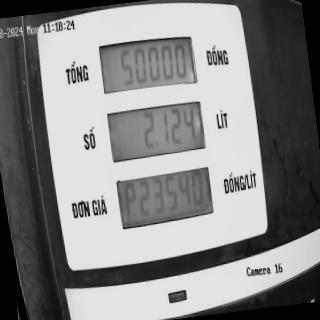screen: (96, 29, 216, 236)
